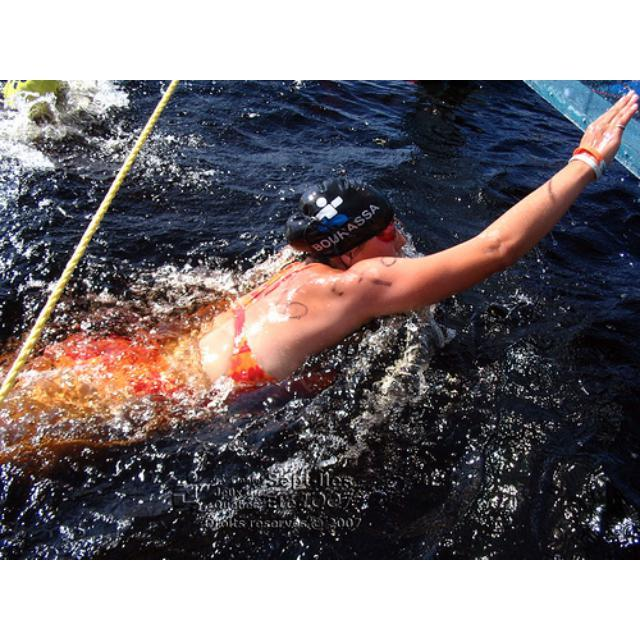human: (1, 89, 639, 462)
